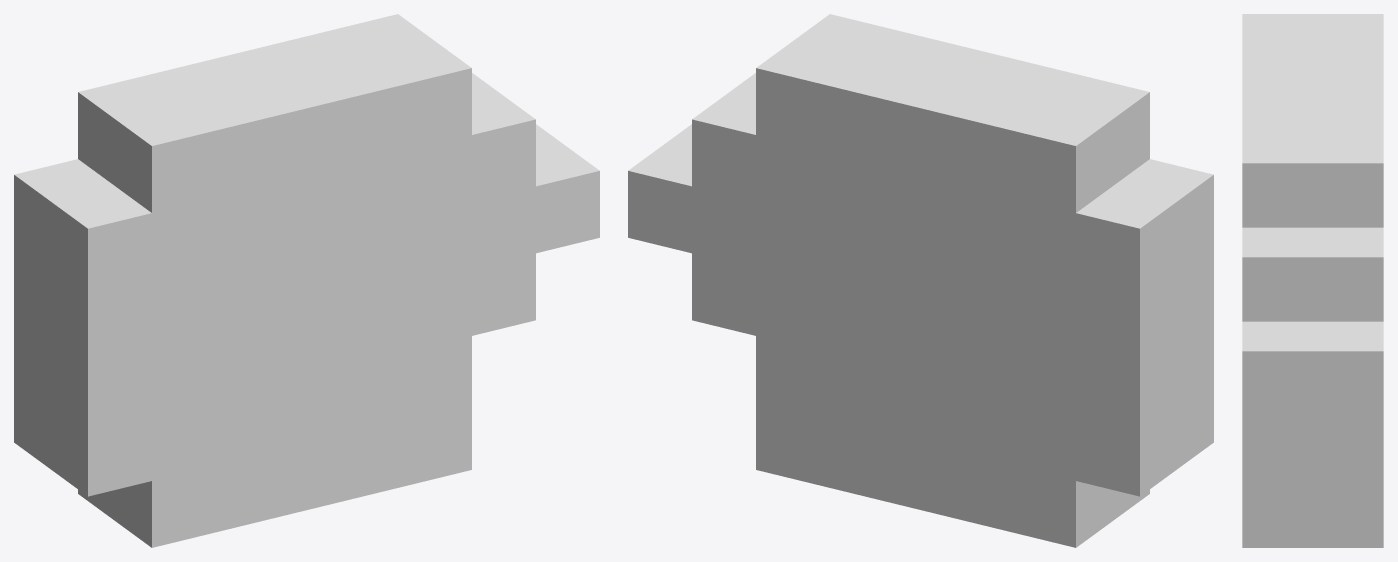
Rendered from fox-2.obj.
3 renders of one model, left to right at view 1: azimuth 30°, elevation 25°; view 2: azimuth 150°, elevation 25°; view 3: azimuth 270°, elevation 25°, orthographic. The views are drawn at different scales.
Size of the model in its own units: 0.8 by 0.6 by 0.2.
Materials: 1 (1 with a texture image).
